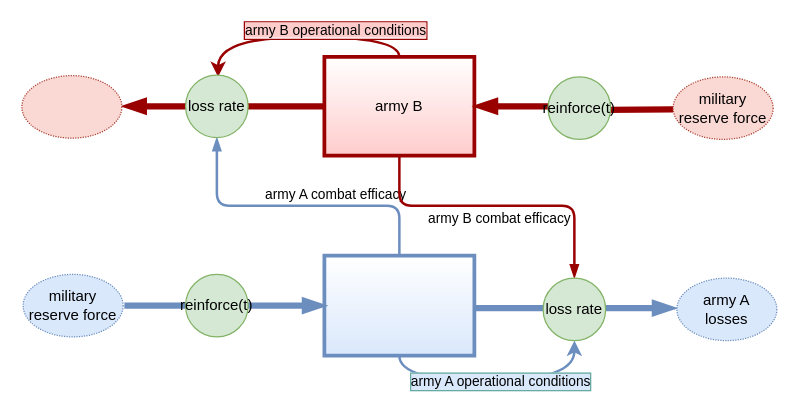
Image size: 799x413. Some labels were removed from this diagram. Here are the shapes that lost their labels. From the top down, the centre of each, then its label:
pixel 71 106: army B losses
pixel 399 305: army A
